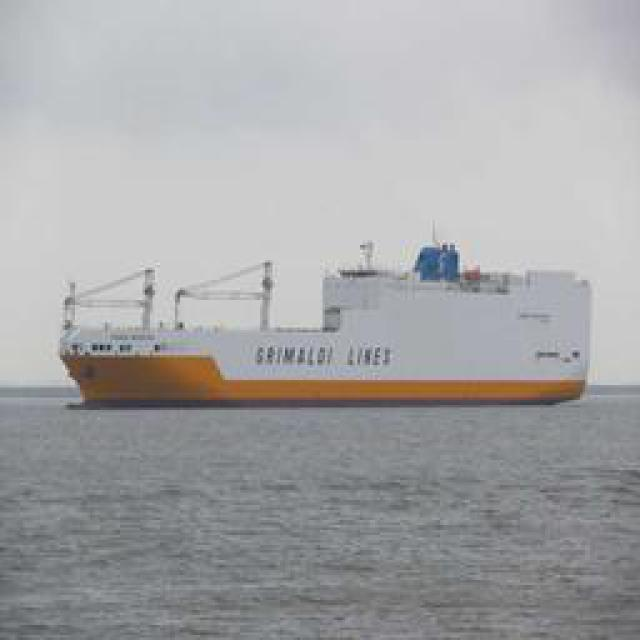Ship: (56, 229, 589, 409)
